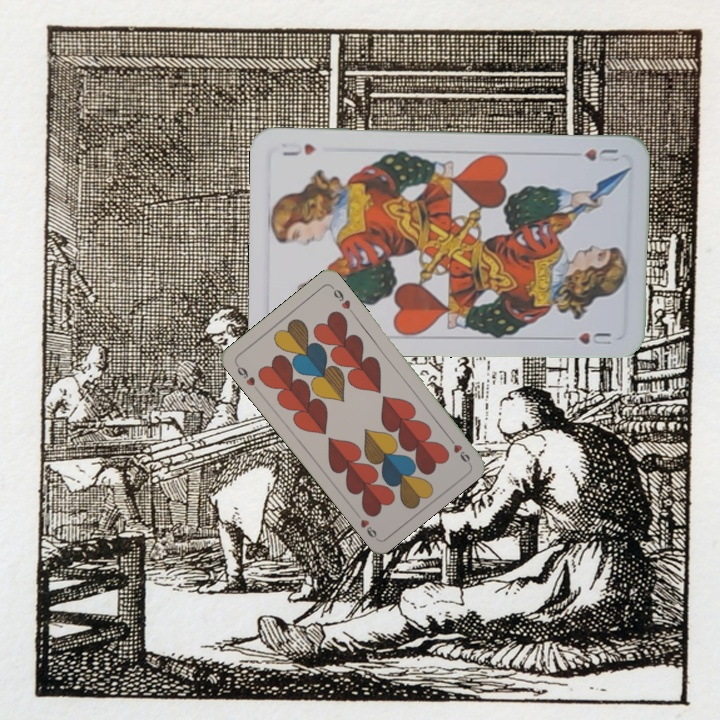H9: (443, 431, 473, 466), (232, 359, 261, 394)
HU: (580, 145, 621, 164)
